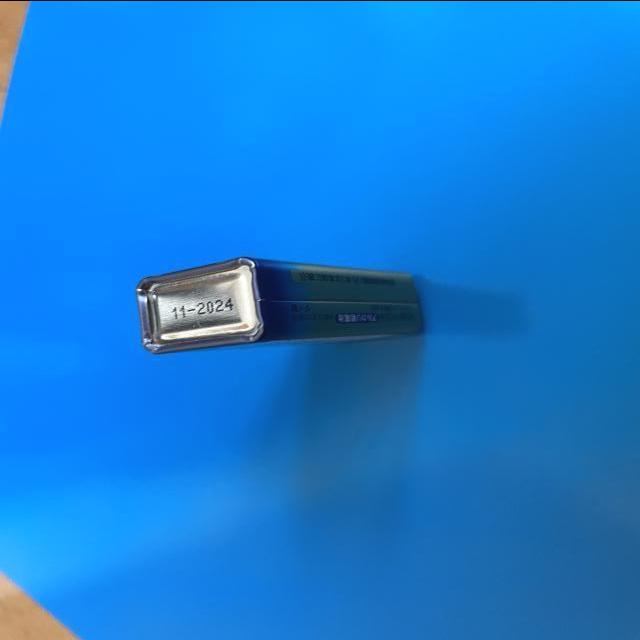9V: (137, 255, 420, 354)
